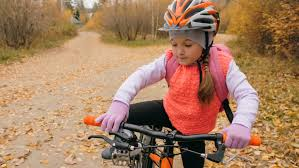helmet: (157, 1, 220, 66)
